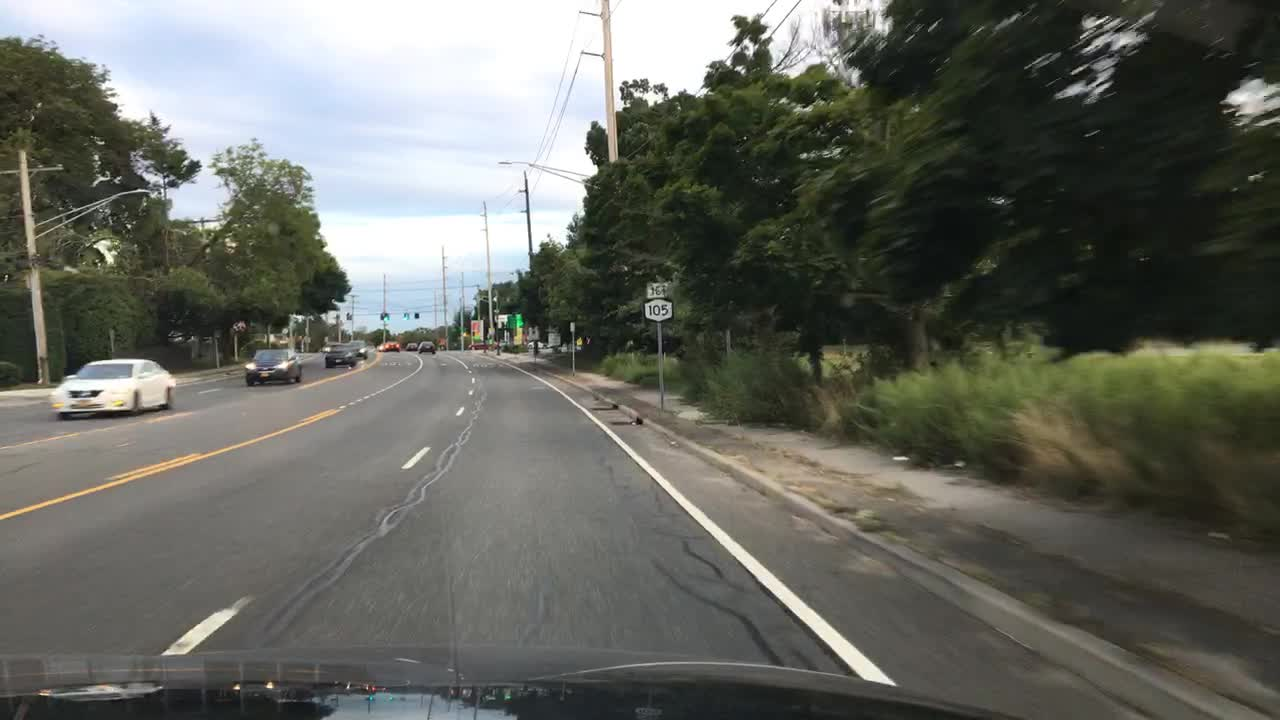car: (50, 356, 177, 420), (243, 349, 303, 387), (324, 342, 355, 370), (347, 339, 367, 358), (417, 339, 436, 356), (466, 341, 497, 350), (316, 342, 335, 353), (528, 341, 547, 350), (385, 341, 399, 353), (364, 342, 376, 353), (375, 342, 388, 352), (404, 342, 417, 350)
traffic light: (411, 310, 420, 324), (344, 312, 352, 326), (378, 312, 390, 321), (399, 313, 411, 321)
traffic sign: (644, 300, 673, 319), (644, 280, 673, 296), (549, 332, 560, 350), (232, 319, 244, 332), (564, 321, 578, 332), (575, 333, 586, 345), (278, 326, 290, 335), (488, 326, 495, 338)
